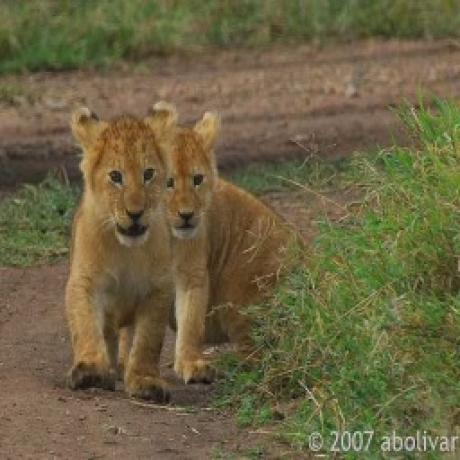Lion: (166, 110, 300, 386), (67, 100, 175, 402)
